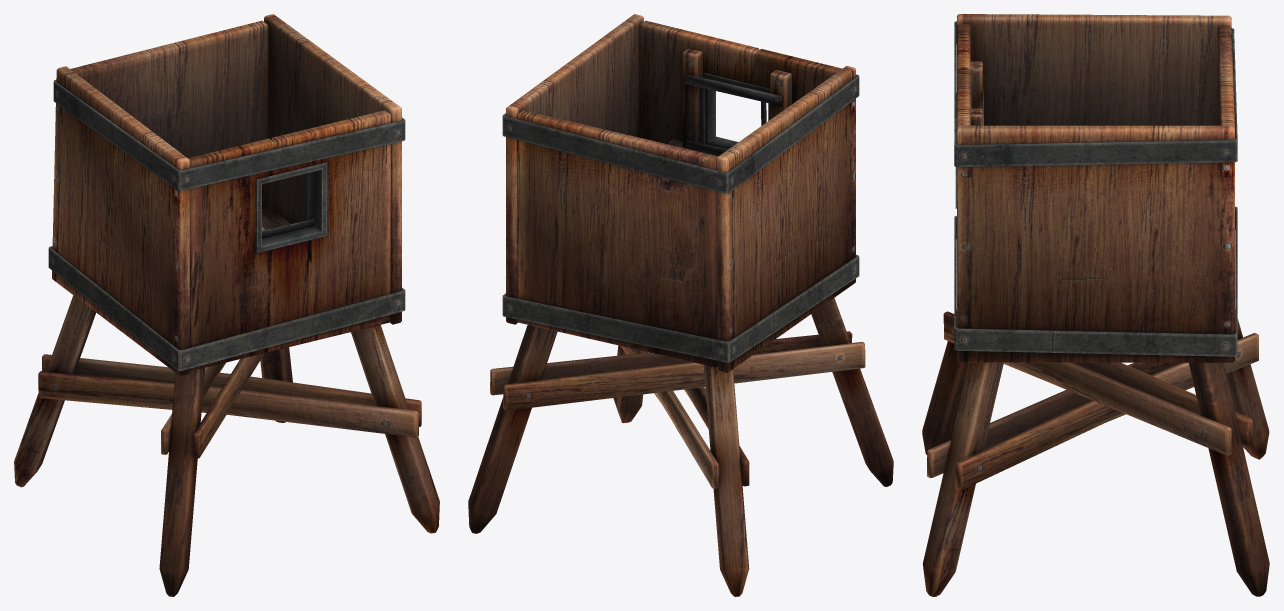
File: light_box.dae
3 views of the same model, side by side, from view 1: azimuth 30°, elevation 25°; view 2: azimuth 150°, elevation 25°; view 3: azimuth 270°, elevation 25° (orthographic). The views are drawn at different scales.
Parts seen in each view (by area): view 1: light_box_mesh; view 2: light_box_mesh; view 3: light_box_mesh.
Part boxes in pixels (bbox=[...]): light_box_mesh: bbox=[14, 14, 439, 596]; light_box_mesh: bbox=[468, 14, 893, 596]; light_box_mesh: bbox=[922, 14, 1269, 596].
Bounding box in the file's own units: 0.9241 × 1.34 × 0.9241.
